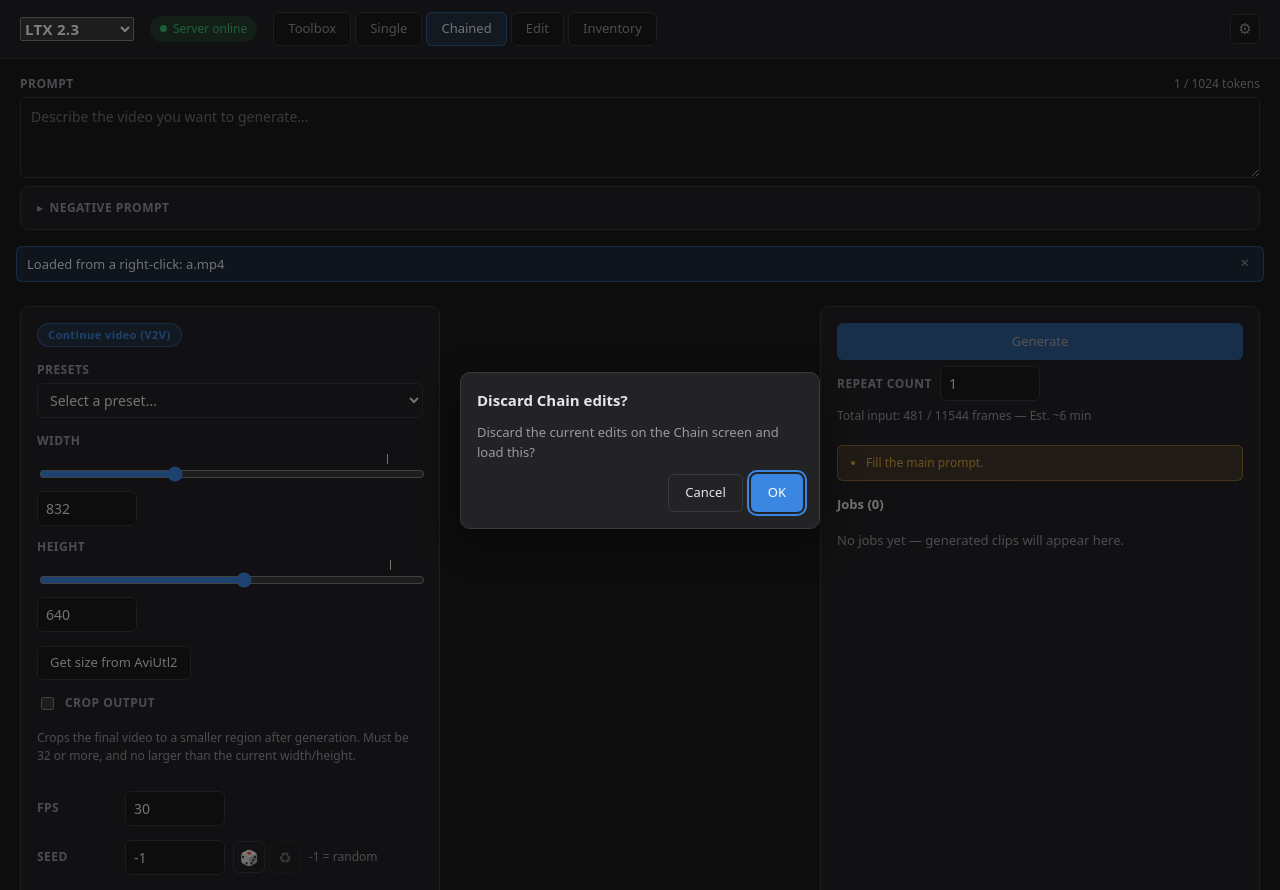
Test: App / right-click routing -> prefill › a dirty Chain shows the discard dialog on a #6 route; Cancel does nothing (no load, no remount)
Expected: the button "Generate" is shown, [837, 323, 1243, 360]
Expected: the text "Discard the current edits on the Chain screen and load this?" is shown, [477, 423, 803, 462]
// Cancel: nothing else happens — no image auto-load, no reservation move.
Click the button "Cancel": (706, 493) [668, 474, 743, 512]
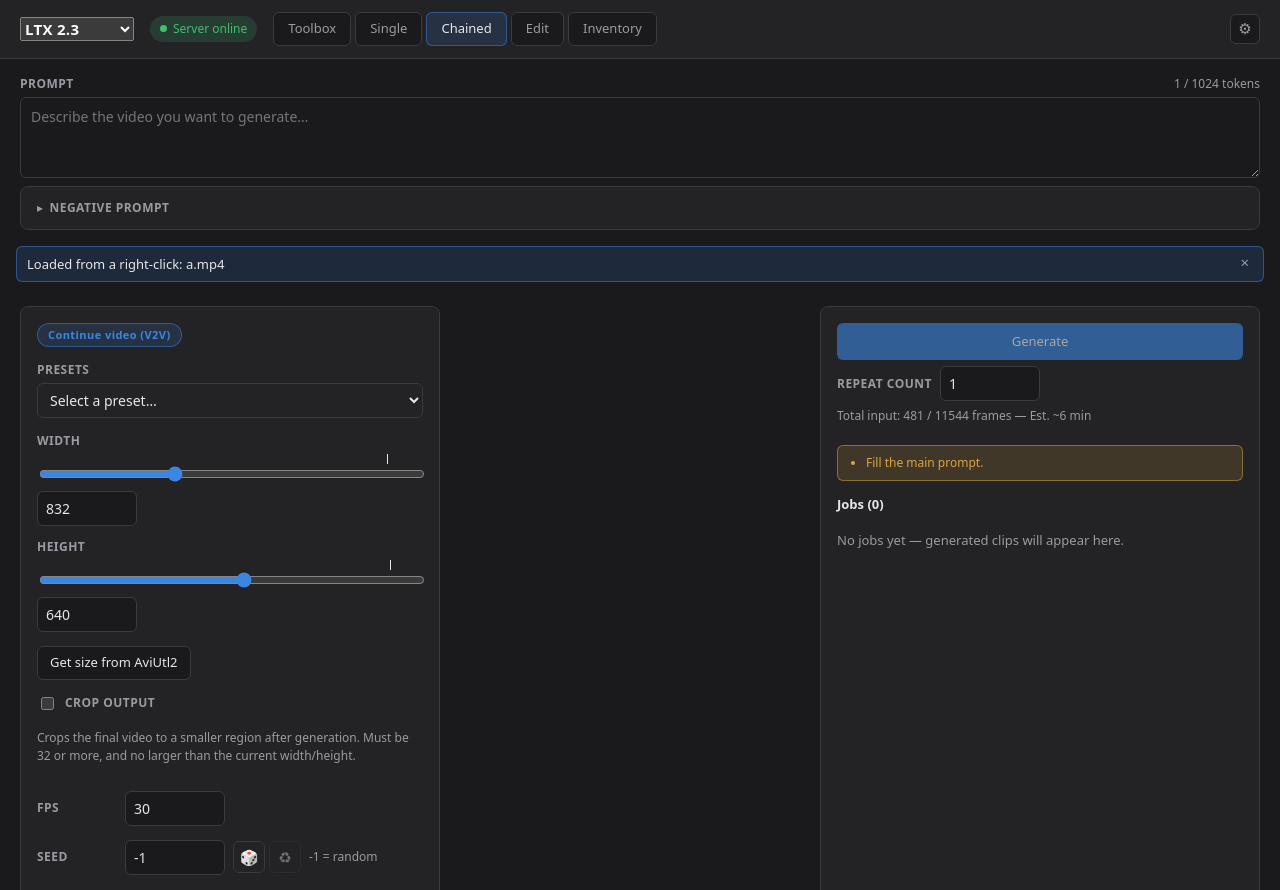
Expected: the dialog is gone
